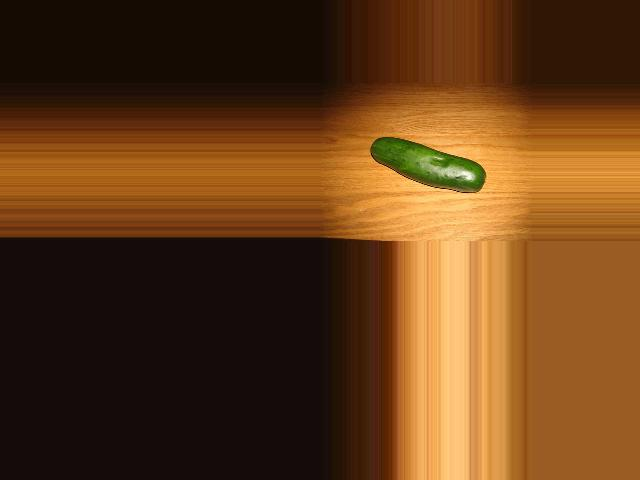cucumber: (369, 137, 484, 193)
